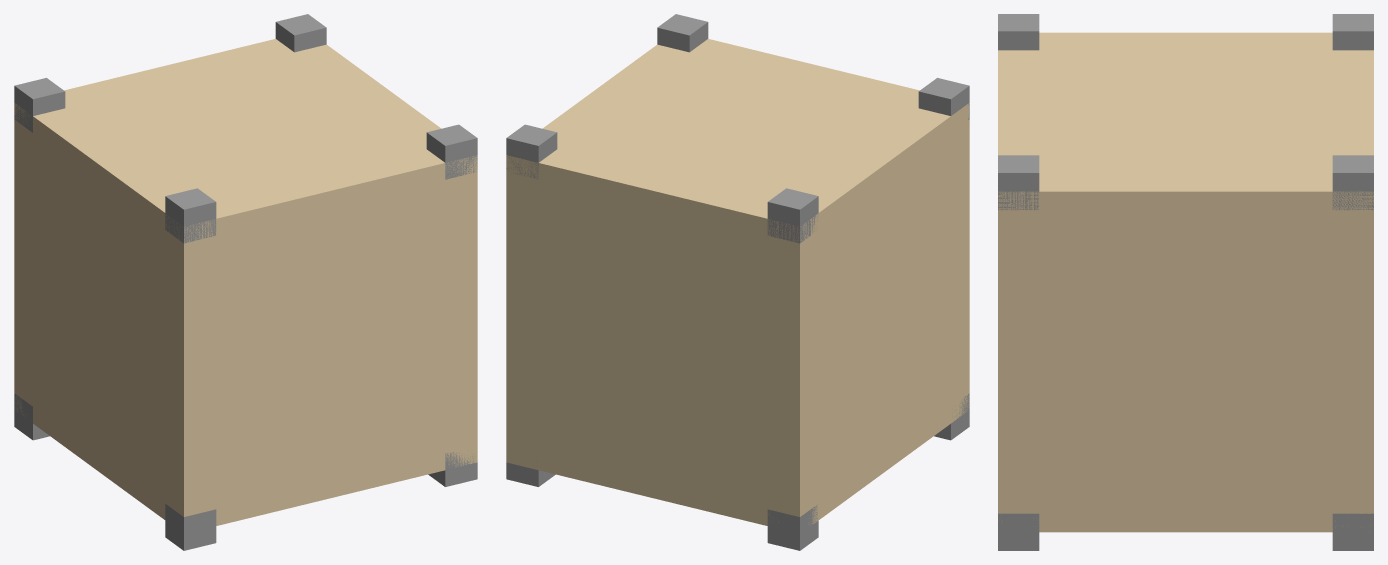
File: block-crate.glb
The picture shows the model from 3 angles, left to right: view 1: azimuth 30°, elevation 25°; view 2: azimuth 150°, elevation 25°; view 3: azimuth 270°, elevation 25°; orthographic projection. The views are drawn at different scales.
Parts seen in each view (by area): view 1: Bracket_1_1_1; view 2: Bracket_1_1_1; view 3: Bracket_1_1_1.
Part boxes in pixels (x1=…): Bracket_1_1_1: x1=14, y1=14, x2=477, y2=550; Bracket_1_1_1: x1=506, y1=14, x2=969, y2=550; Bracket_1_1_1: x1=998, y1=14, x2=1373, y2=550.
Bounding box in the file's own units: 1 × 1.11 × 1.
